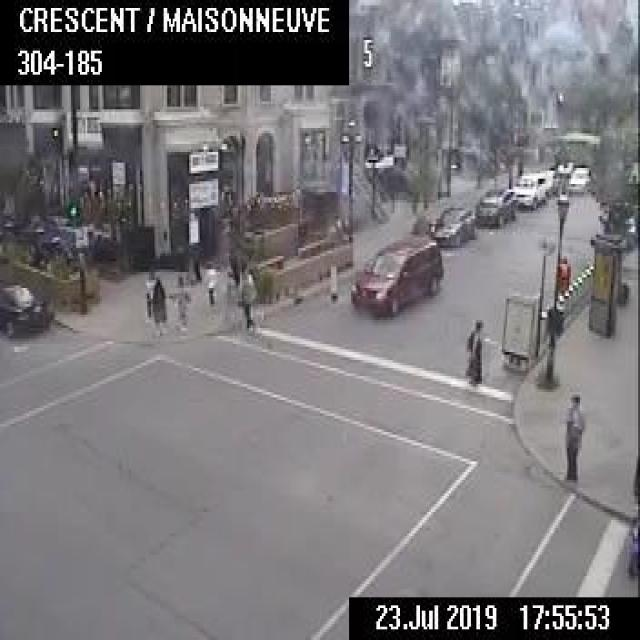pedestrian: (564, 392, 582, 477), (462, 318, 482, 388), (168, 274, 191, 333), (236, 259, 253, 325), (150, 276, 166, 334), (144, 269, 156, 317), (202, 258, 214, 304), (631, 456, 638, 518)
vehicle: (348, 234, 442, 312), (0, 277, 49, 336), (427, 205, 474, 246), (473, 186, 516, 224), (511, 172, 551, 207), (538, 166, 565, 194), (625, 521, 638, 576), (566, 166, 589, 195)
